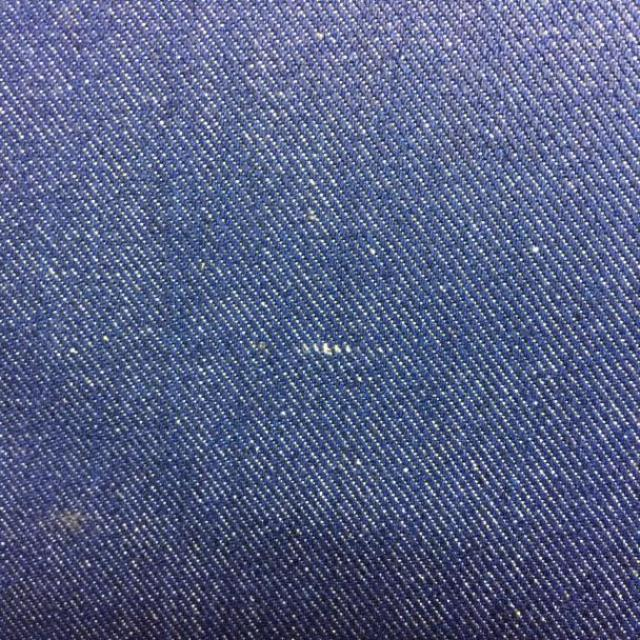Knot: (301, 342, 355, 356)
